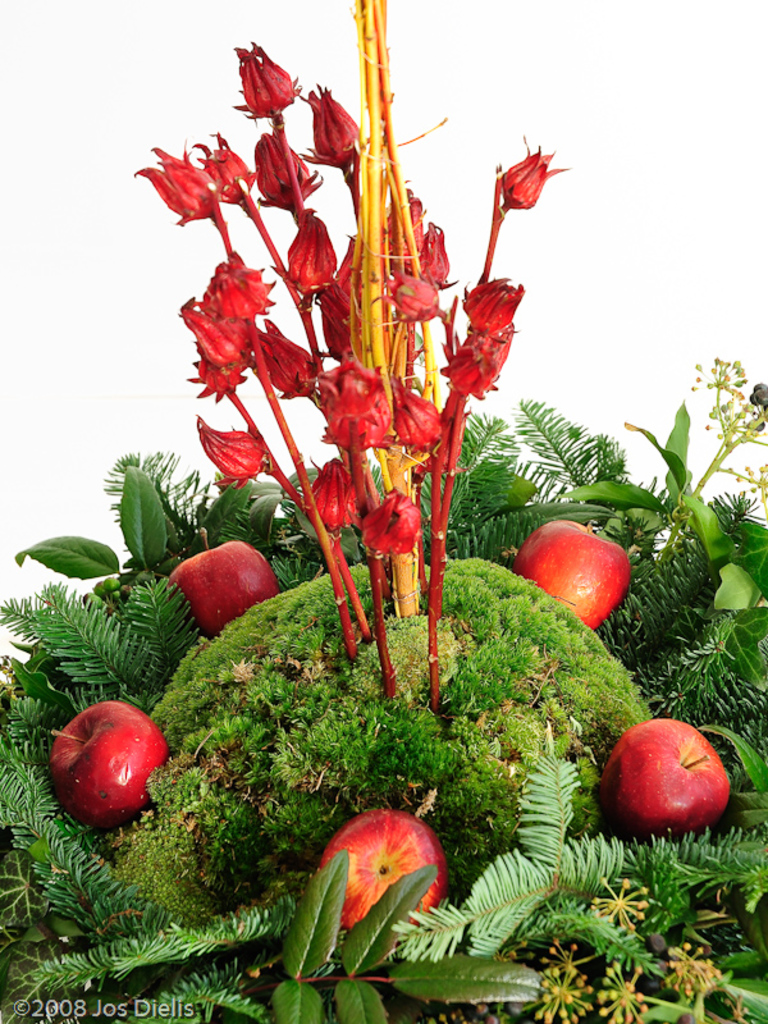Apple: (47, 698, 172, 835), (317, 807, 447, 931), (613, 719, 732, 839), (165, 526, 284, 642), (513, 519, 634, 627)
